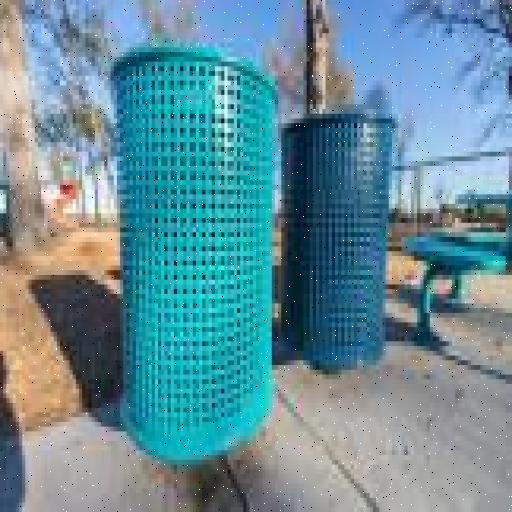poubelle_vide: (94, 24, 280, 470), (284, 27, 402, 387)
